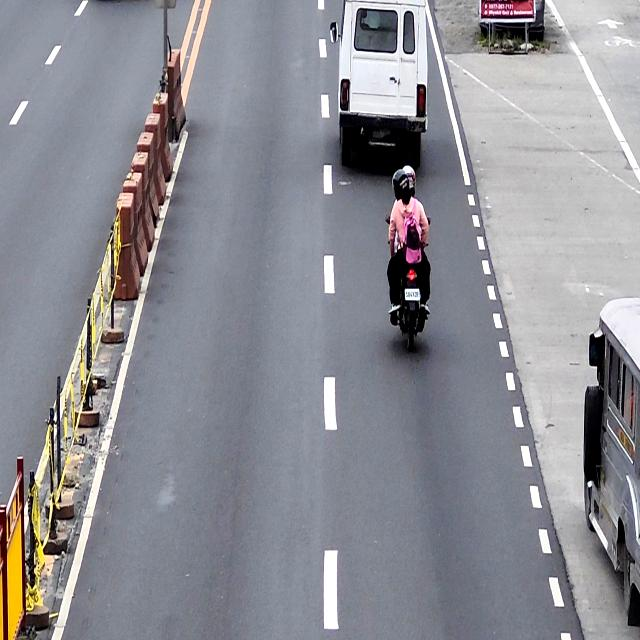Car: (335, 0, 429, 161)
Jeep: (576, 297, 640, 616)
License-Plate: (404, 286, 421, 303)
Motorcycle: (385, 167, 435, 360)
